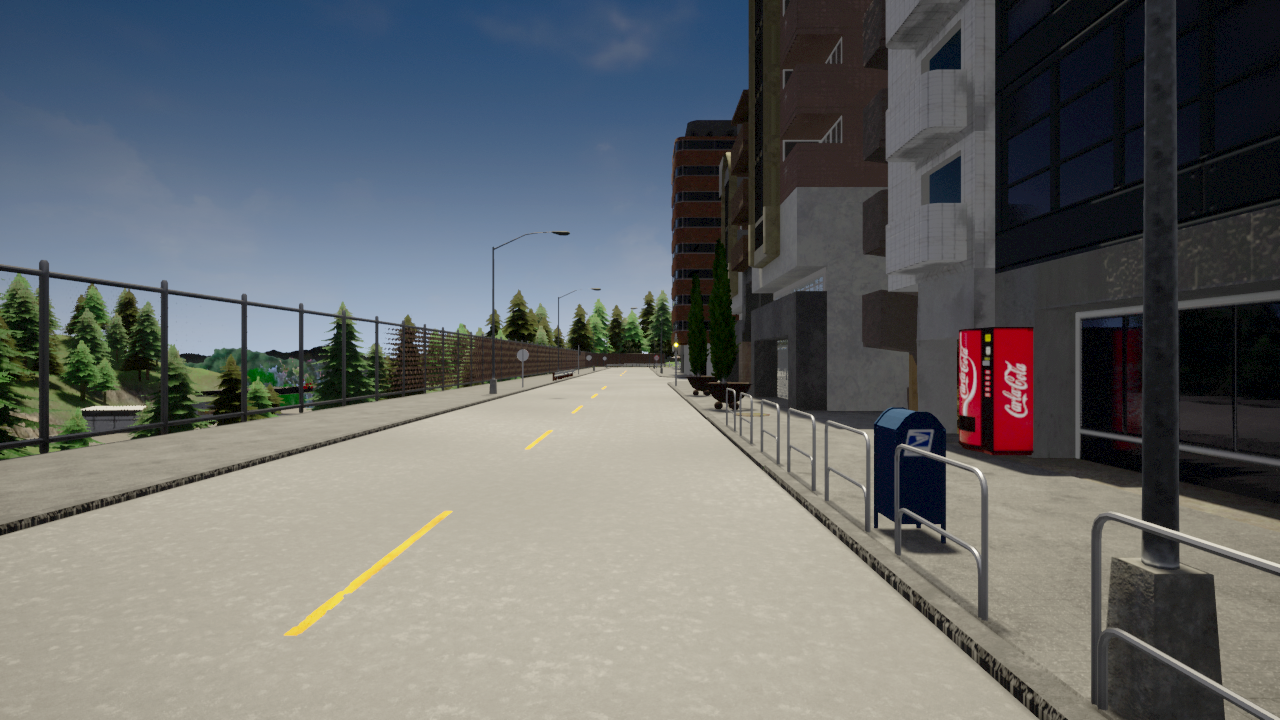yellow: (673, 337, 679, 354)
